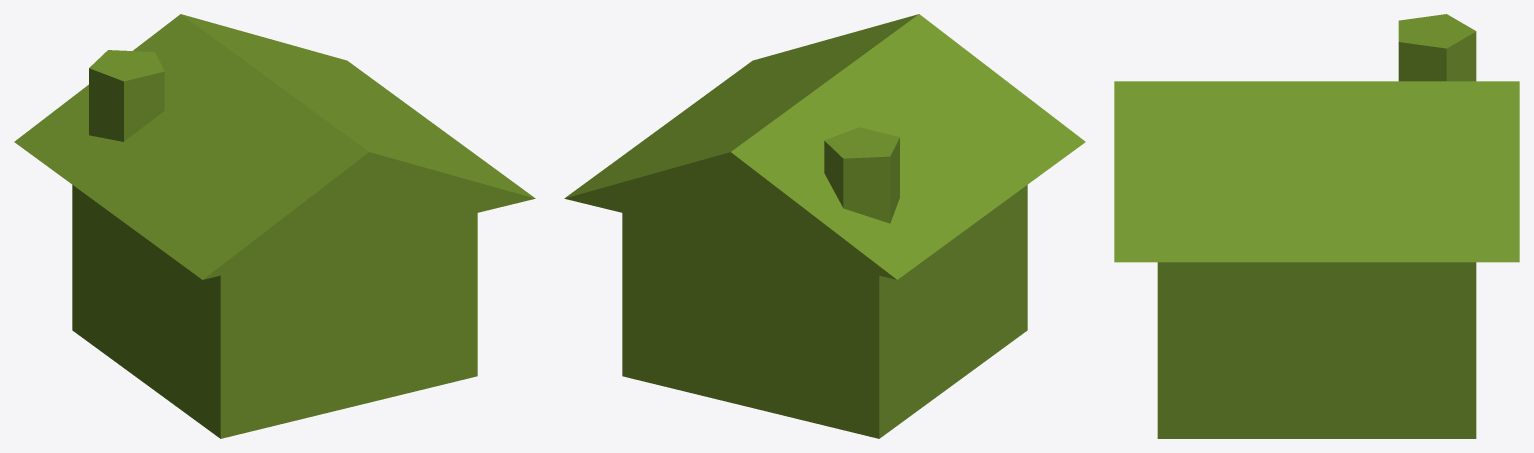
File: PropHouse.glb
3 renders of one model, left to right at view 1: azimuth 30°, elevation 25°; view 2: azimuth 150°, elevation 25°; view 3: azimuth 270°, elevation 25°, orthographic. The views are drawn at different scales.
Parts seen in each view (by area): view 1: PropHouse; view 2: PropHouse; view 3: PropHouse.
Boxes of the visible parts, left/top/right/bottom form: PropHouse: left=14, top=14, right=535, bottom=438; PropHouse: left=564, top=14, right=1085, bottom=438; PropHouse: left=1114, top=14, right=1519, bottom=438.
Size of the model in its own units: 2.59 by 2.02 by 2.54.
